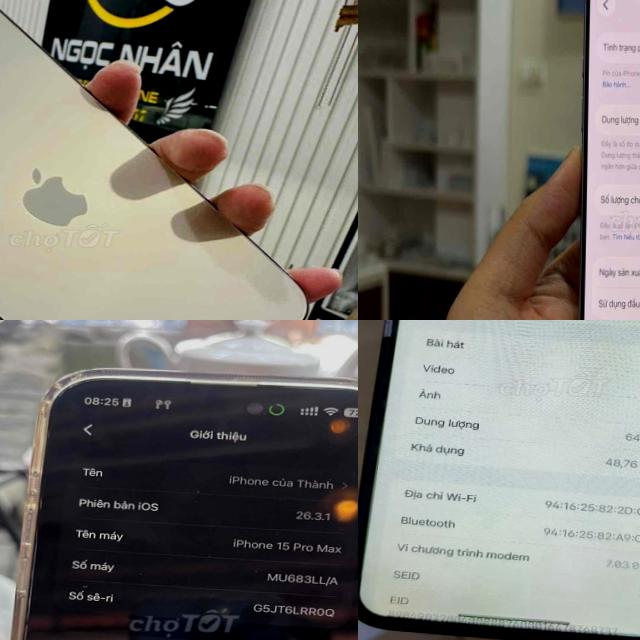gen_14: (0, 0, 318, 320)
gen_15: (0, 346, 358, 640)
gen_17: (569, 0, 640, 320)
gen_x_xs: (358, 320, 640, 640)
